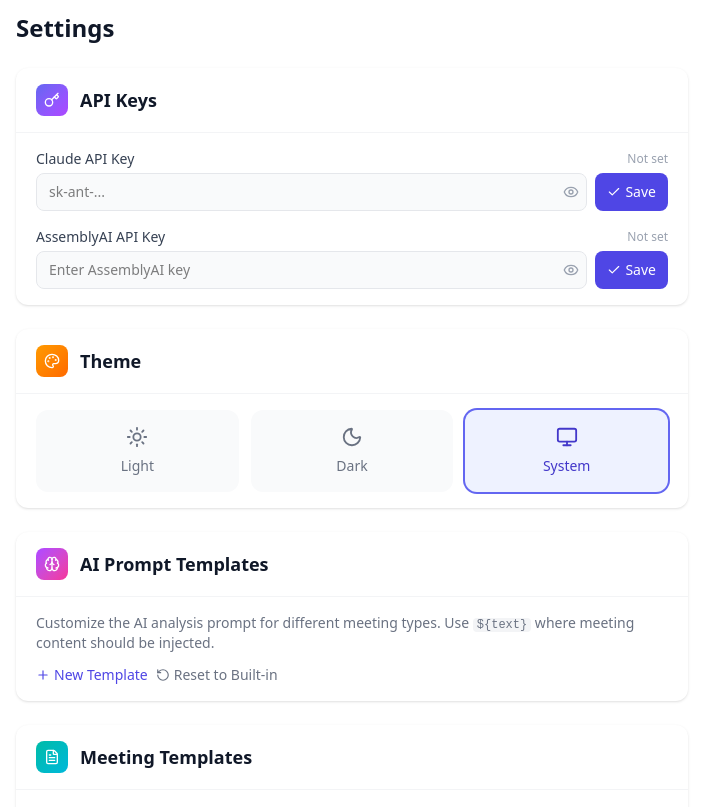
Test: Settings & Export › SettingsPage › Claude API key save and status update
The width and height of the screenshot is (705, 807).
Expected: the heading "Settings" is shown, [16,12,114,44]
// Type a key
Type "sk-ant-test-key-123" into the password field named "Claude API key". click: (312, 192)
box: [36,173,587,211]
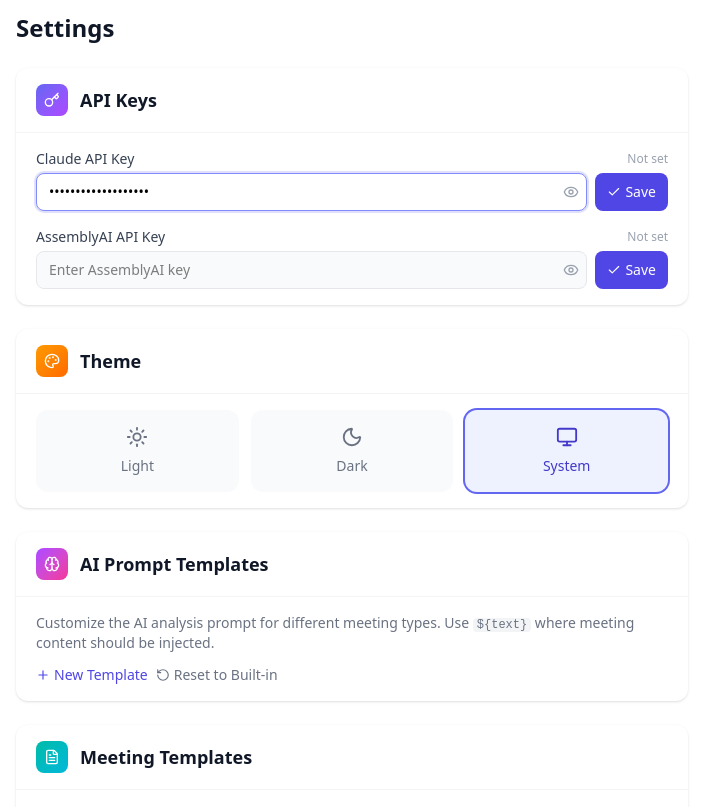
// Click save (first "Save" button in the API keys section)
Click the 1st button "Save". click: (632, 192)
box: [595,173,668,211]
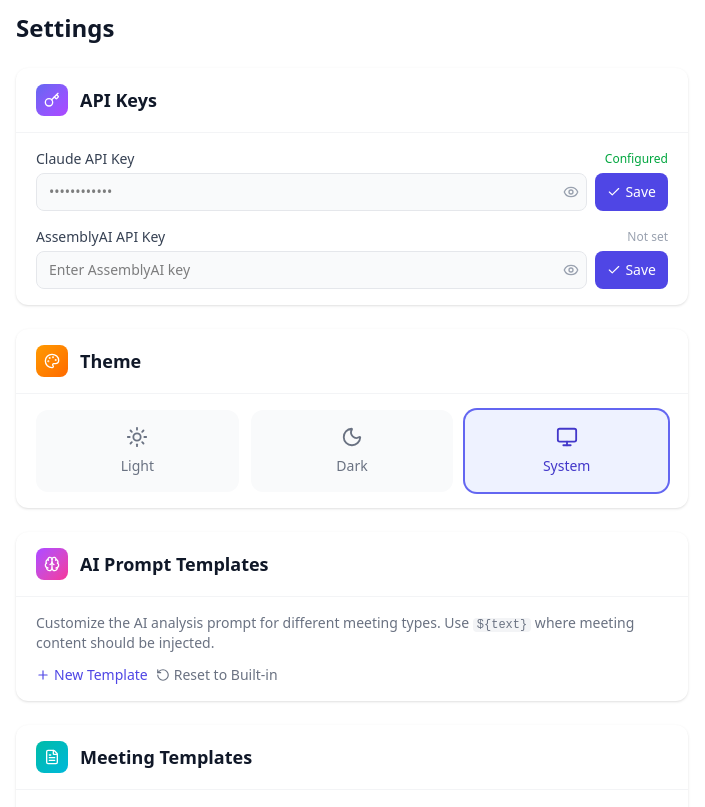
Result: the text with test id "claude-key-status" reads "Configured" at [605,150,668,167]
